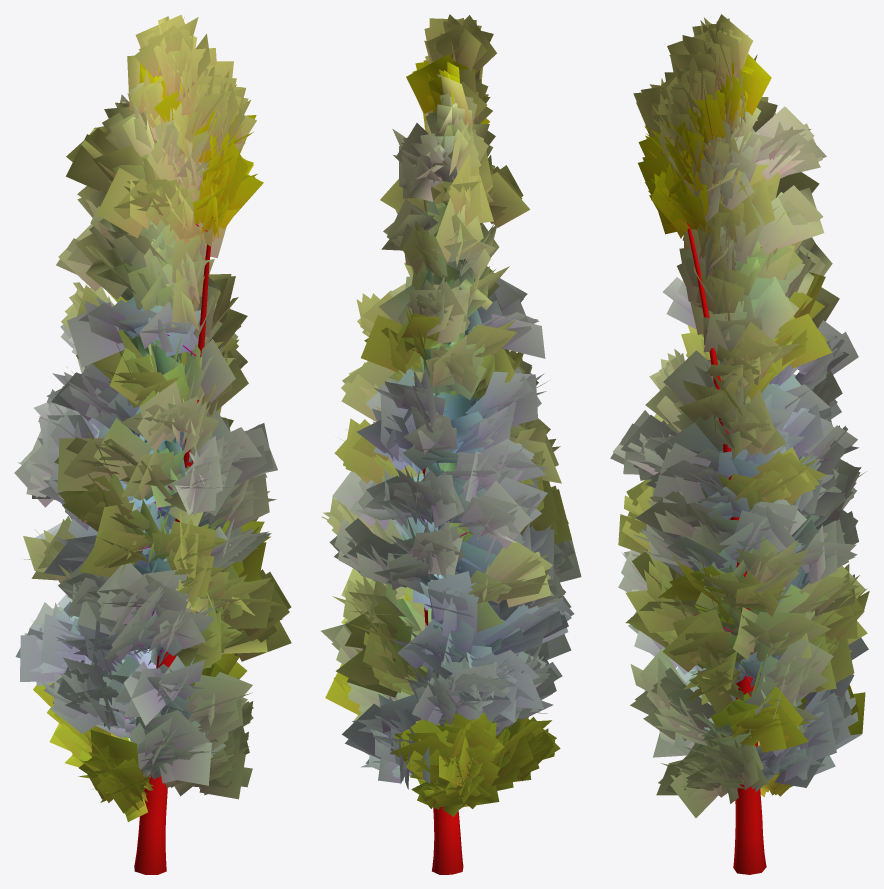
Rendered from poplar_b.glb.
The picture shows the model from 3 angles, left to right: view 1: azimuth 30°, elevation 25°; view 2: azimuth 150°, elevation 25°; view 3: azimuth 270°, elevation 25°; orthographic projection. The views are drawn at different scales.
Parts seen in each view (by area): view 1: poplar_b; view 2: poplar_b; view 3: poplar_b.
Boxes of the visible parts, <box> form: poplar_b: <box>14,15,291,874</box>; poplar_b: <box>321,14,581,874</box>; poplar_b: <box>610,14,869,874</box>.
Bounding box in the file's own units: 5.45 × 19.06 × 5.26.
